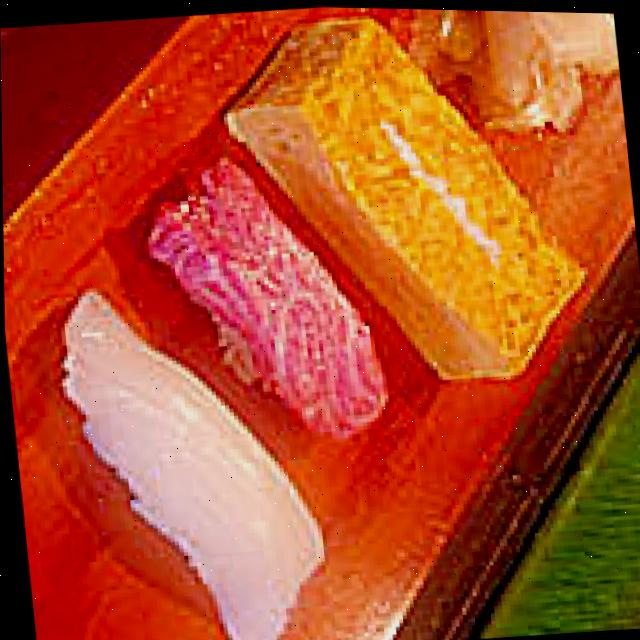寿司卷物: (9, 0, 640, 640)
